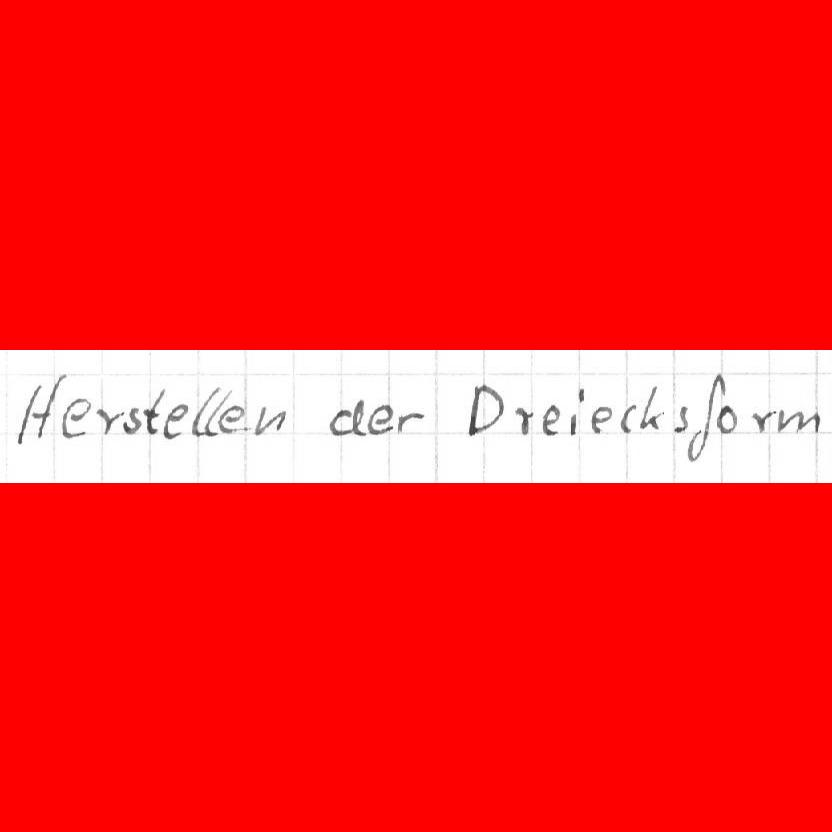Char: (687, 376, 723, 464), (17, 372, 60, 445), (467, 383, 504, 436), (329, 398, 367, 437), (61, 395, 90, 440), (204, 387, 227, 439), (640, 384, 664, 432), (777, 407, 821, 433), (253, 403, 285, 437), (143, 386, 165, 434), (162, 402, 189, 440), (190, 387, 209, 438), (714, 403, 739, 435), (218, 406, 245, 434), (367, 405, 392, 435), (569, 388, 585, 434), (395, 409, 423, 435), (96, 407, 122, 434), (589, 404, 612, 433), (541, 404, 562, 435), (751, 408, 777, 433), (123, 405, 143, 434), (515, 405, 534, 435), (673, 404, 690, 436), (620, 404, 637, 434)
